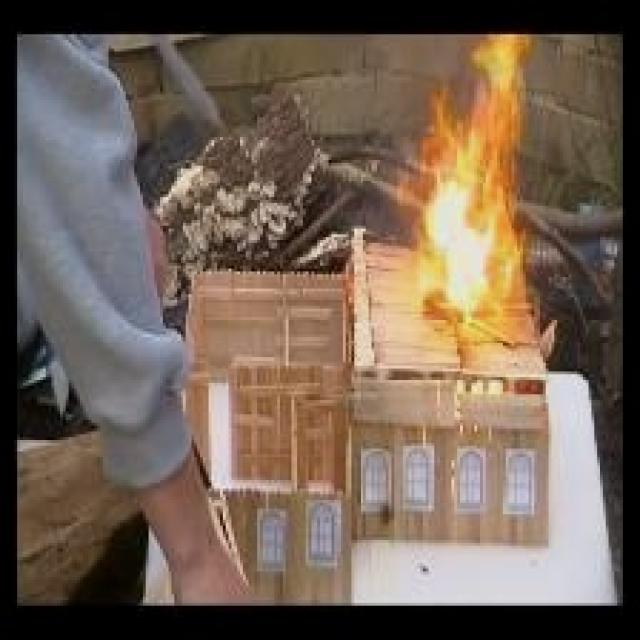fire: (402, 33, 542, 336)
